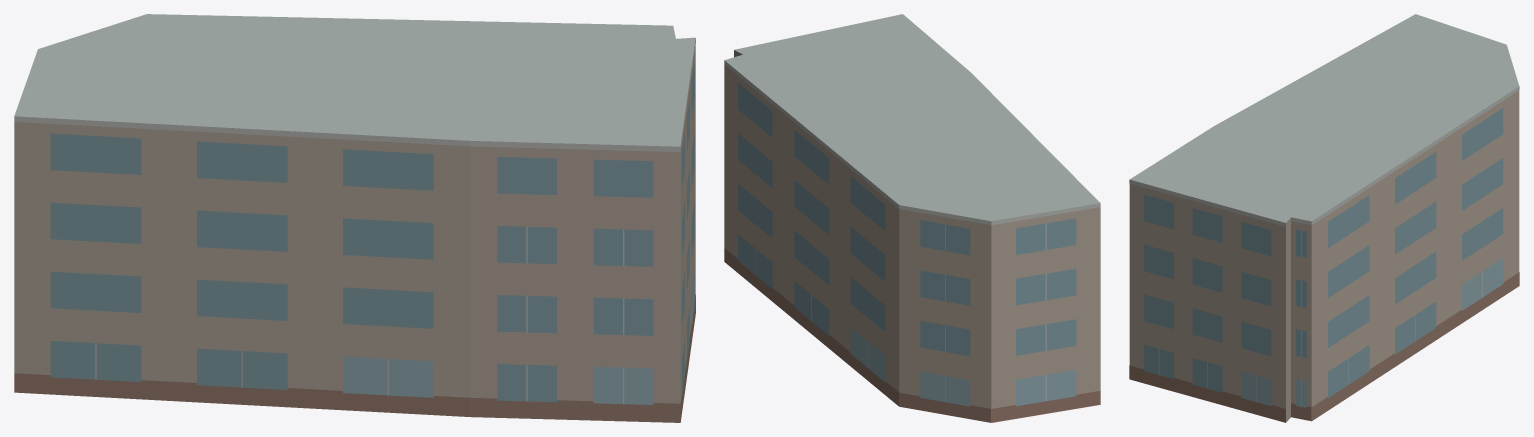
The model's file is survey-upis-32647116.glb.
3 views of the same model, side by side, from view 1: azimuth 30°, elevation 25°; view 2: azimuth 150°, elevation 25°; view 3: azimuth 270°, elevation 25° (orthographic). The views are drawn at different scales.
Parts seen in each view (by area): view 1: survey-upis-32647116.tmp; view 2: survey-upis-32647116.tmp; view 3: survey-upis-32647116.tmp.
Part boxes in pixels (bbox=[...]): survey-upis-32647116.tmp: bbox=[14, 14, 695, 422]; survey-upis-32647116.tmp: bbox=[724, 14, 1100, 422]; survey-upis-32647116.tmp: bbox=[1129, 14, 1519, 422].
Bounding box in the file's own units: 27.37 × 12.2 × 21.58.
